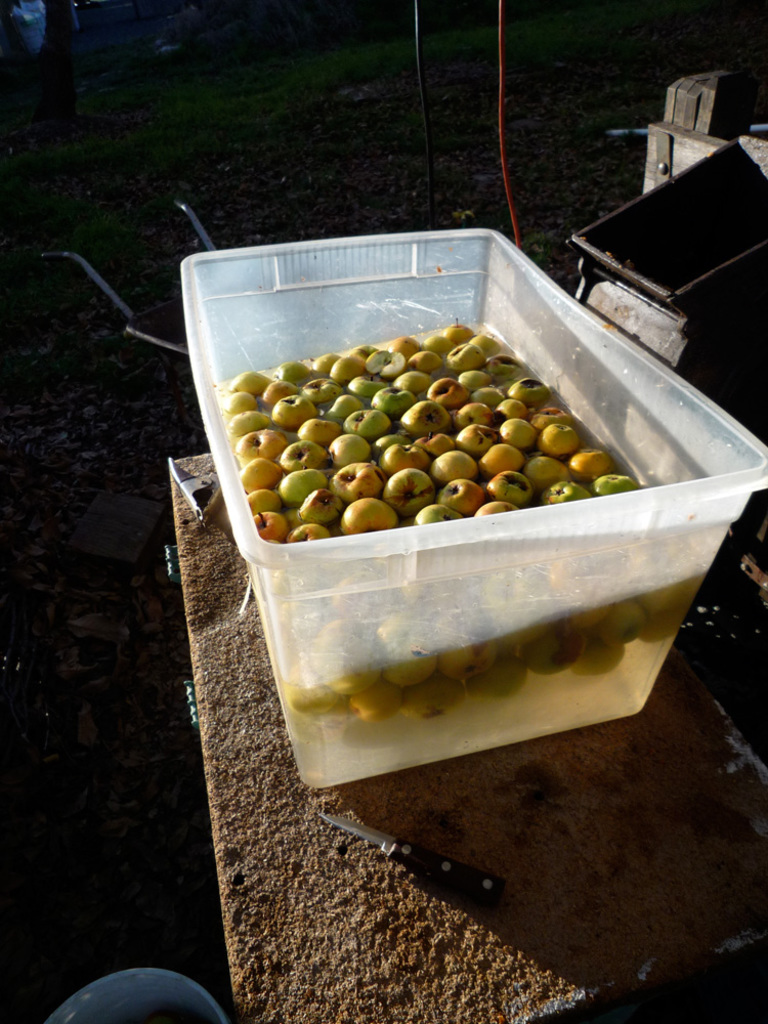Apple: (220, 311, 704, 720), (342, 495, 397, 532)
